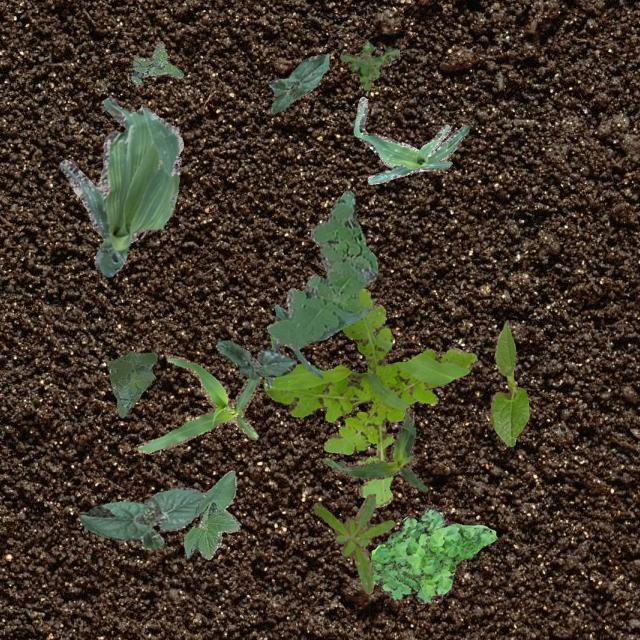crop: (59, 97, 182, 276), (136, 353, 260, 452), (352, 95, 468, 184), (320, 406, 428, 491), (264, 304, 368, 388), (78, 486, 204, 548), (182, 469, 240, 558), (489, 322, 528, 446), (267, 53, 327, 114), (214, 338, 296, 378)
weed: (263, 288, 477, 507), (266, 188, 378, 348), (370, 507, 496, 602), (312, 494, 393, 594), (106, 351, 156, 416), (340, 40, 400, 90), (130, 40, 182, 84)
